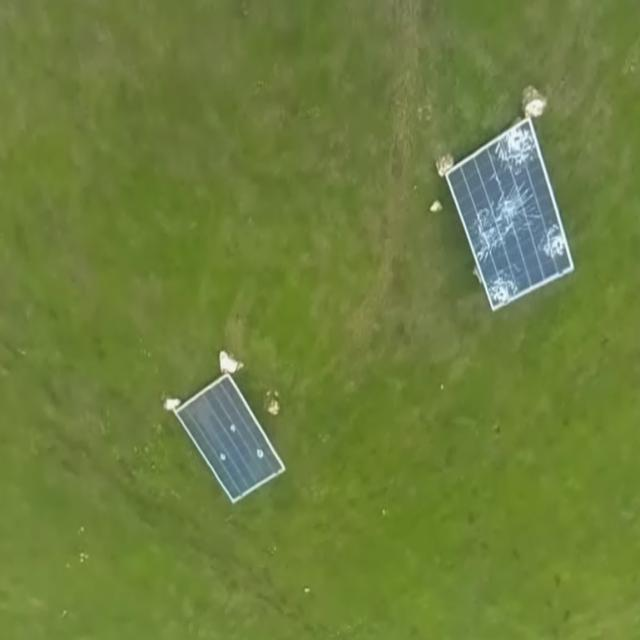Bird-drop: (226, 420, 240, 438), (216, 448, 228, 467), (255, 444, 267, 462)
Physical-damage: (464, 189, 536, 256), (497, 130, 535, 168), (541, 224, 565, 264), (485, 274, 517, 302)
